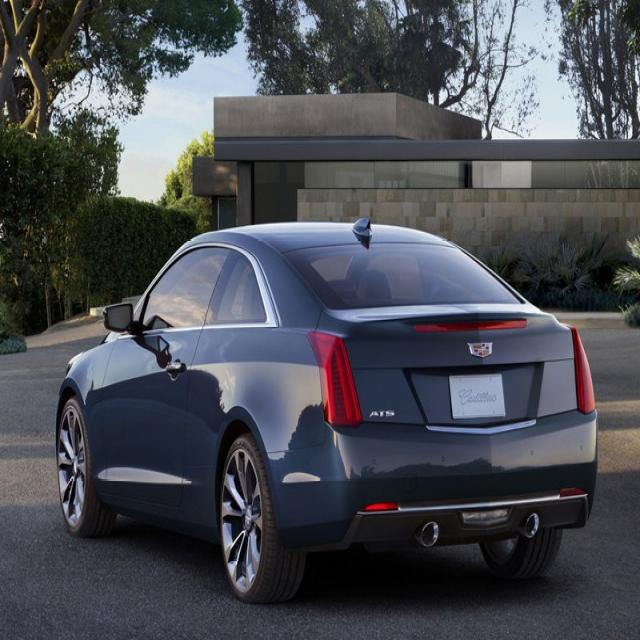back_glass: (282, 239, 526, 308)
back_left_side_light: (303, 327, 363, 432)
back_right_side_light: (568, 320, 598, 416)
front_left_side_door: (96, 239, 234, 511)
front_left_side_mirror: (102, 301, 135, 334)
rear_bumper: (268, 404, 602, 556)
wheel: (220, 436, 301, 602), (57, 398, 101, 533)
